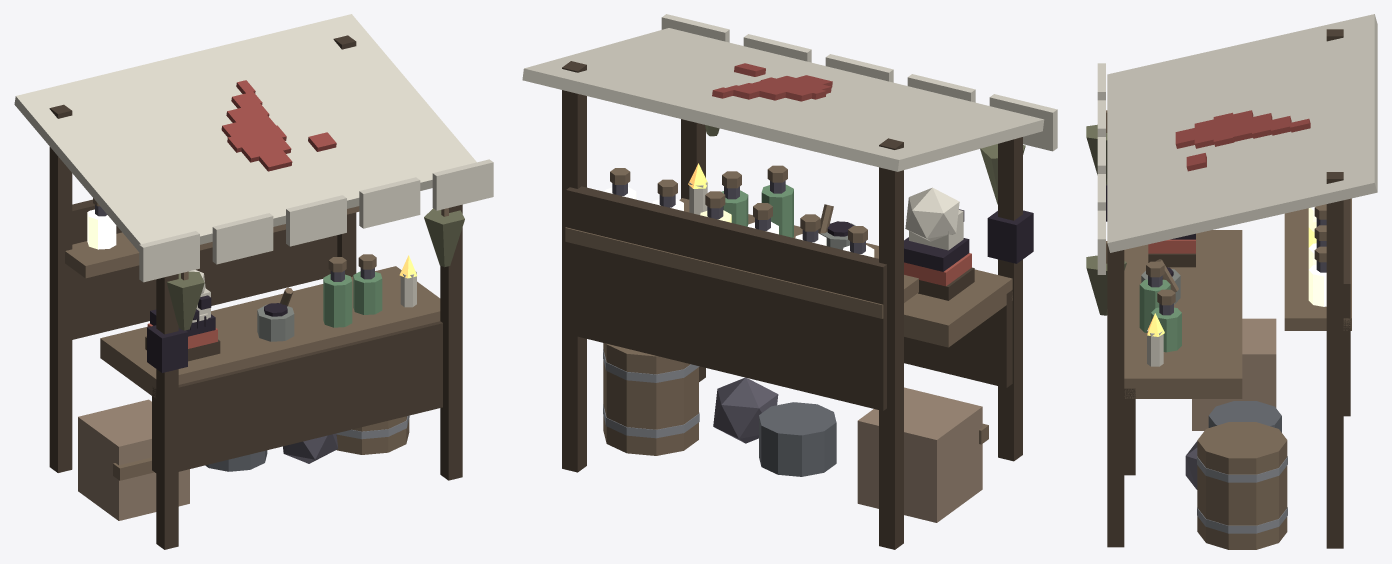
The model's file is market_stall.glb.
The picture shows the model from 3 angles, left to right: view 1: azimuth 30°, elevation 25°; view 2: azimuth 150°, elevation 25°; view 3: azimuth 270°, elevation 25°; orthographic projection. The views are drawn at different scales.
Parts seen in each view (by area): view 1: market_stall; view 2: market_stall; view 3: market_stall.
Part boxes in pixels (bbox=[...]): market_stall: bbox=[14, 14, 493, 549]; market_stall: bbox=[522, 14, 1057, 549]; market_stall: bbox=[1086, 14, 1377, 549].
Bounding box in the file's own units: 1.48 × 1.47 × 1.04.
